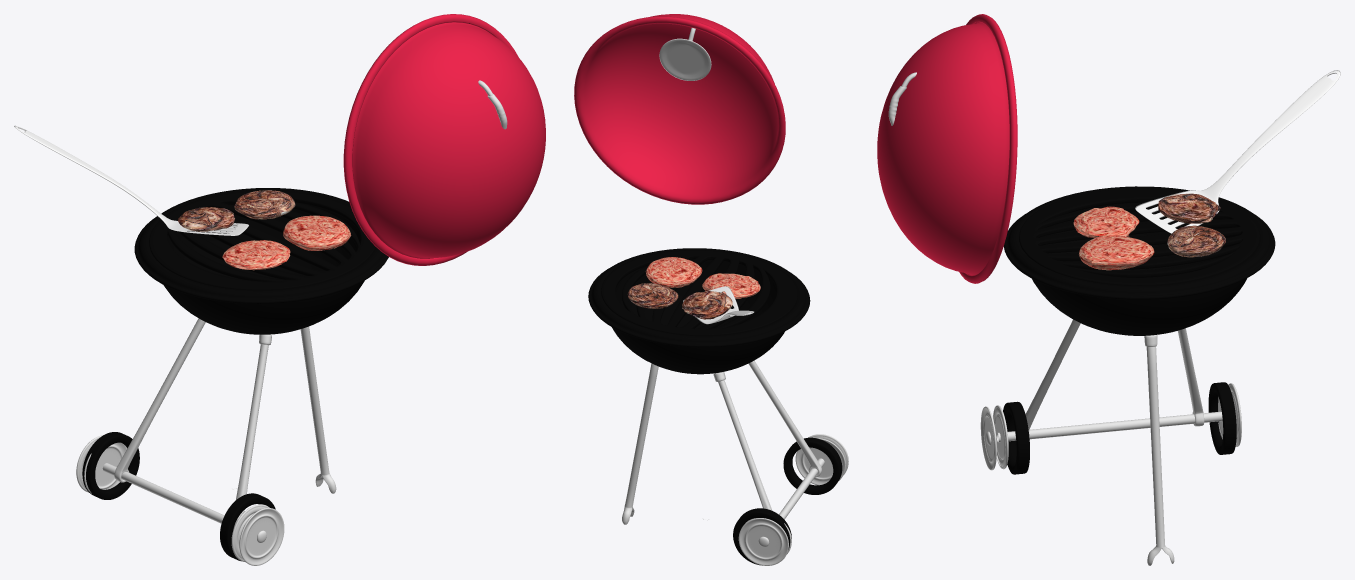
Rendered from STEP 5.glb.
The picture shows the model from 3 angles, left to right: view 1: azimuth 30°, elevation 25°; view 2: azimuth 150°, elevation 25°; view 3: azimuth 270°, elevation 25°; orthographic projection. The views are drawn at different scales.
Visible parts, largest first — view 1: GrillHandle_4, GrillHandle_2, GrillHandle_1, GrillHandle_3, Sphere.001, Sphere.003, Body.001, Sphere.004, Sphere.002; view 2: GrillHandle_4, GrillHandle_2, GrillHandle_1, GrillHandle_3, GrillHandle_0, Sphere.001, Sphere.002, Sphere.004, Sphere.003, Body.001; view 3: GrillHandle_4, GrillHandle_2, GrillHandle_1, GrillHandle_3, Body.001, Sphere.001, Sphere.003, Sphere.004, Sphere.002.
Part boxes in pixels (box(x1,y1,x2,y2)): GrillHandle_4: box(343, 14, 545, 265); GrillHandle_2: box(134, 188, 388, 334); GrillHandle_1: box(76, 80, 492, 565); GrillHandle_3: box(82, 432, 275, 561); Sphere.001: box(283, 215, 351, 250); Sphere.003: box(222, 240, 290, 270); Body.001: box(14, 125, 248, 235); Sphere.004: box(234, 190, 295, 219); Sphere.002: box(178, 207, 234, 231); GrillHandle_4: box(574, 14, 785, 204); GrillHandle_2: box(588, 248, 810, 374); GrillHandle_1: box(622, 28, 848, 565); GrillHandle_3: box(733, 437, 842, 565); GrillHandle_0: box(659, 38, 725, 381); Sphere.001: box(645, 257, 702, 287); Sphere.002: box(682, 291, 732, 319); Sphere.004: box(627, 283, 678, 308); Sphere.003: box(702, 273, 760, 298); Body.001: box(683, 286, 753, 324); GrillHandle_4: box(877, 14, 1017, 283); GrillHandle_2: box(1003, 186, 1275, 335); GrillHandle_1: box(901, 72, 1241, 565); GrillHandle_3: box(1003, 382, 1236, 474); Body.001: box(1135, 70, 1340, 233); Sphere.001: box(1079, 235, 1154, 270); Sphere.003: box(1073, 206, 1139, 238); Sphere.004: box(1167, 225, 1225, 257); Sphere.002: box(1158, 193, 1220, 223).
Bounding box in the file's own units: 5.84 × 8.04 × 6.15.
11 materials, 3 textured.
